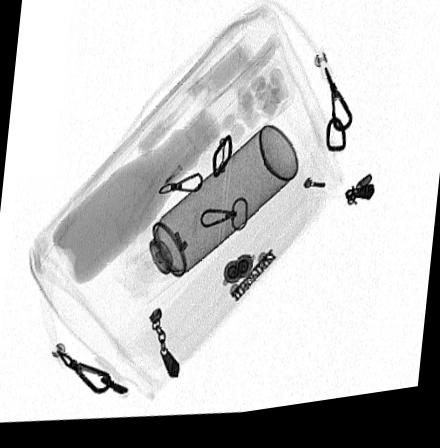Sprayer: (124, 131, 299, 307)
